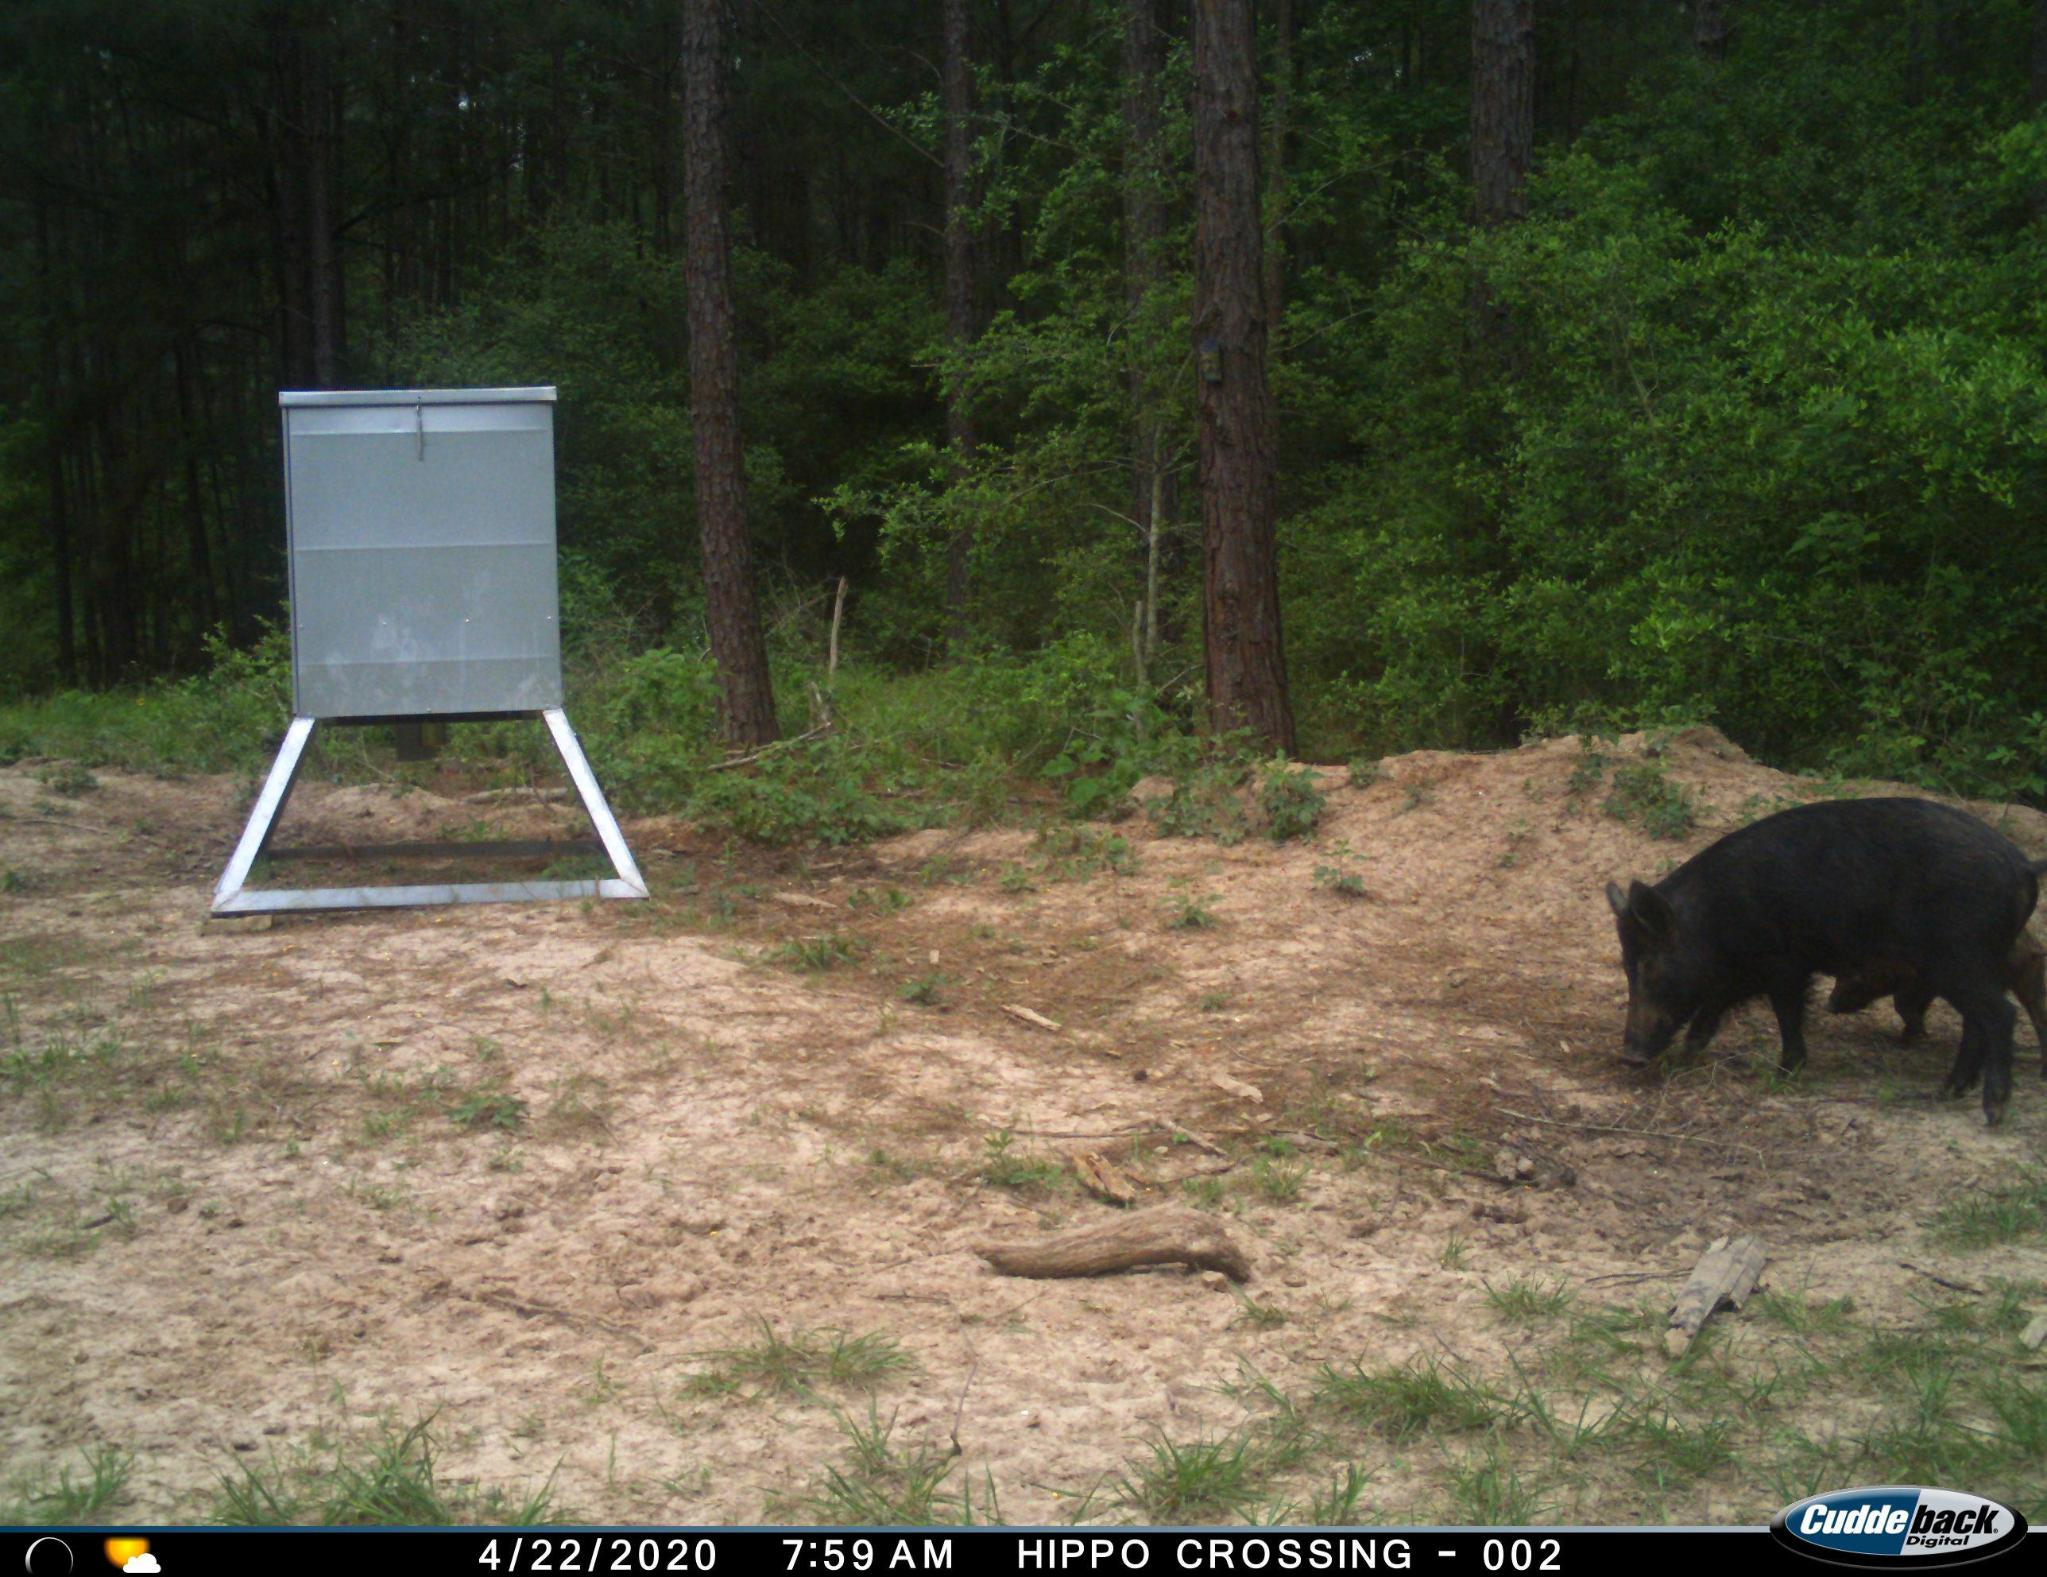Hog: (1588, 790, 2047, 1130)
